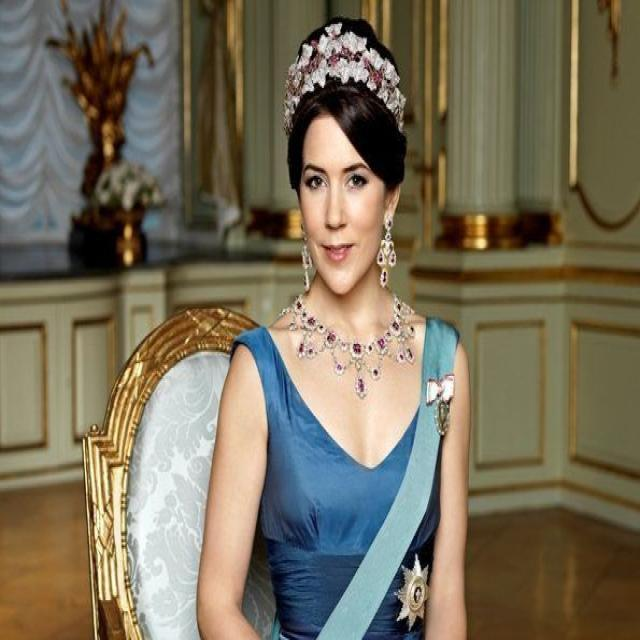Earring: (366, 207, 408, 302), (296, 225, 324, 298)
